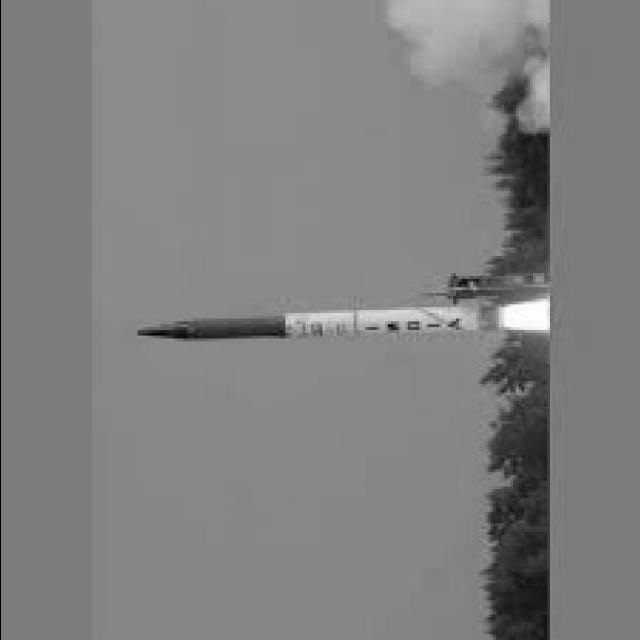Missile: (130, 301, 519, 343)
